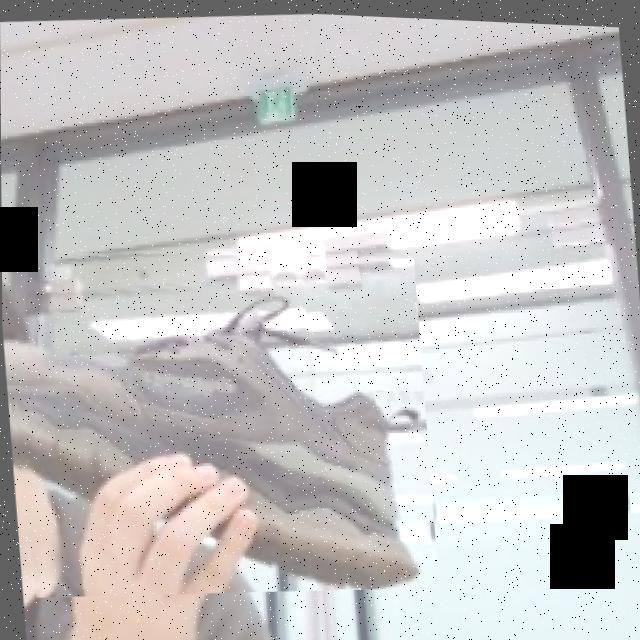shoe: (1, 221, 437, 611)
